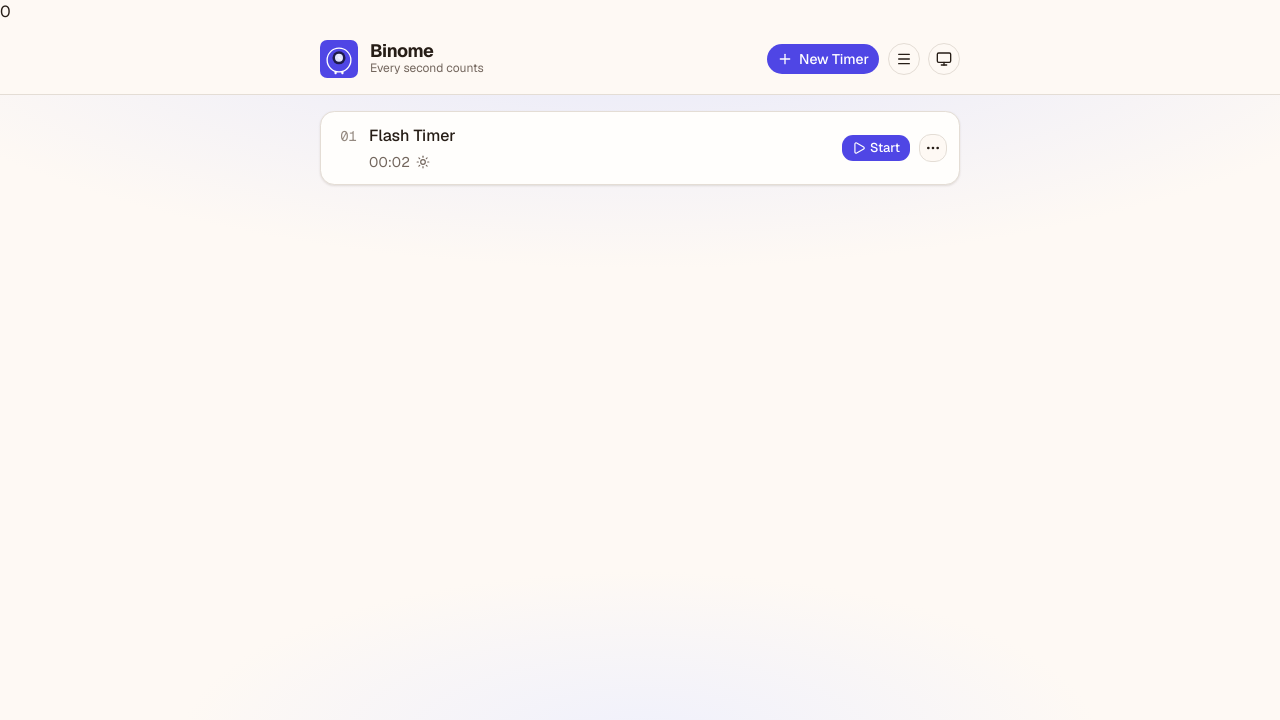
Test: AppShell — integration › timer lifecycle › resetting an expired timer returns remaining to original duration
The width and height of the screenshot is (1280, 720).
Click the button "Start" at (876, 148), box [841,134,911,162]
Wait 2000 ms
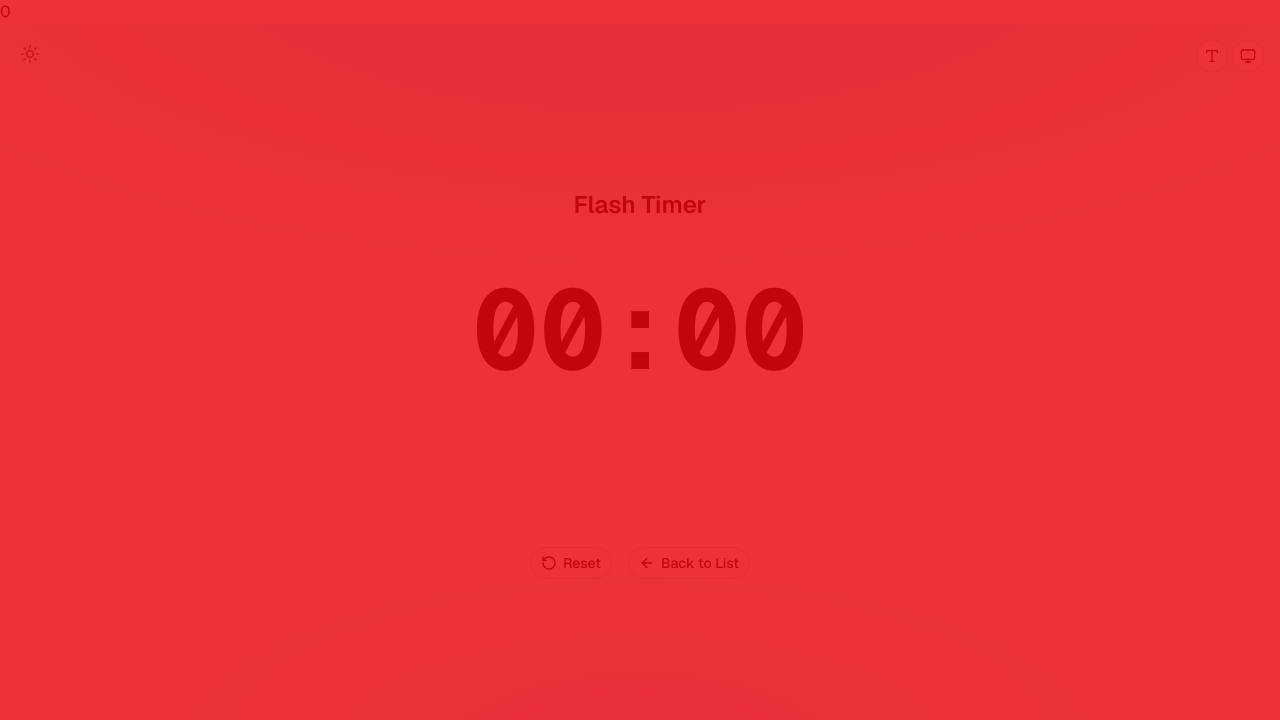
Click the button "Reset" at (571, 563), box [530,547,612,579]
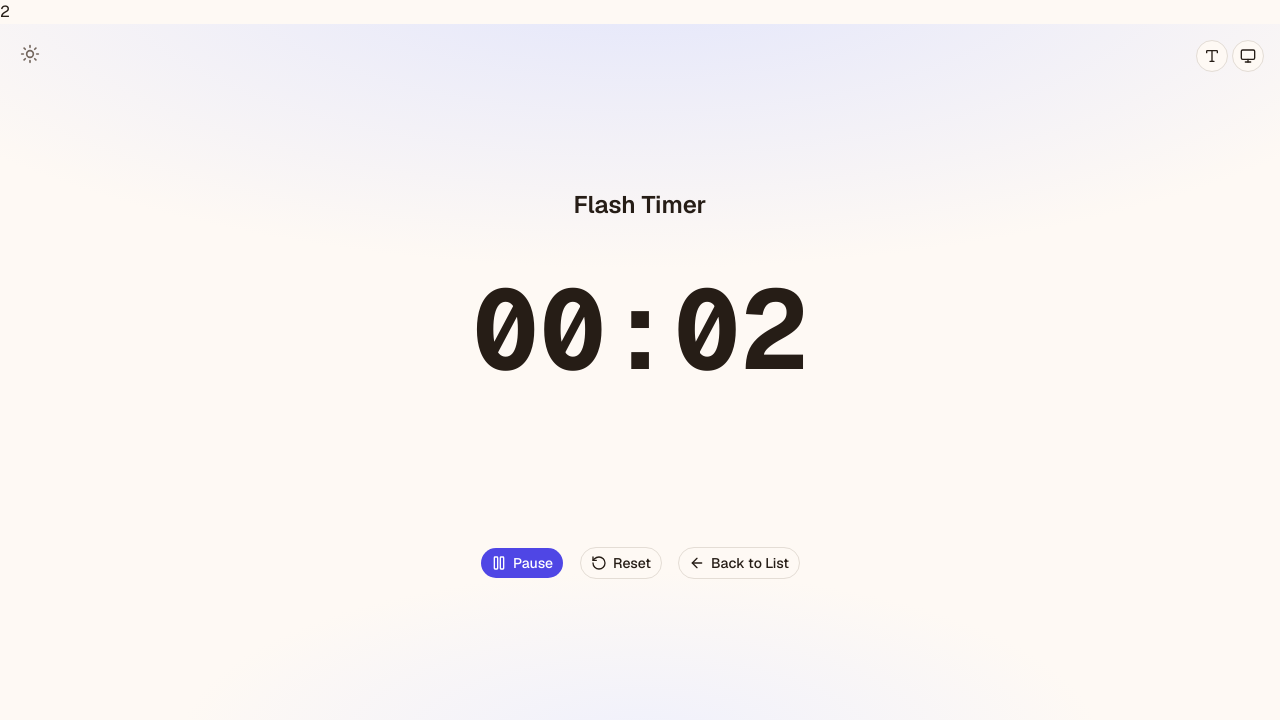
Expected: the text with test id "remaining" reads "2", [0,1,10,22]
